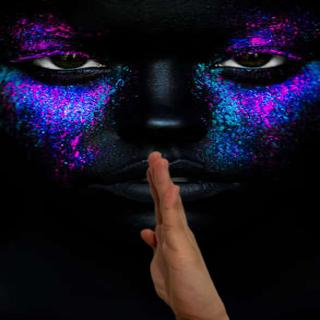RIGHT: (134, 148, 231, 320)
